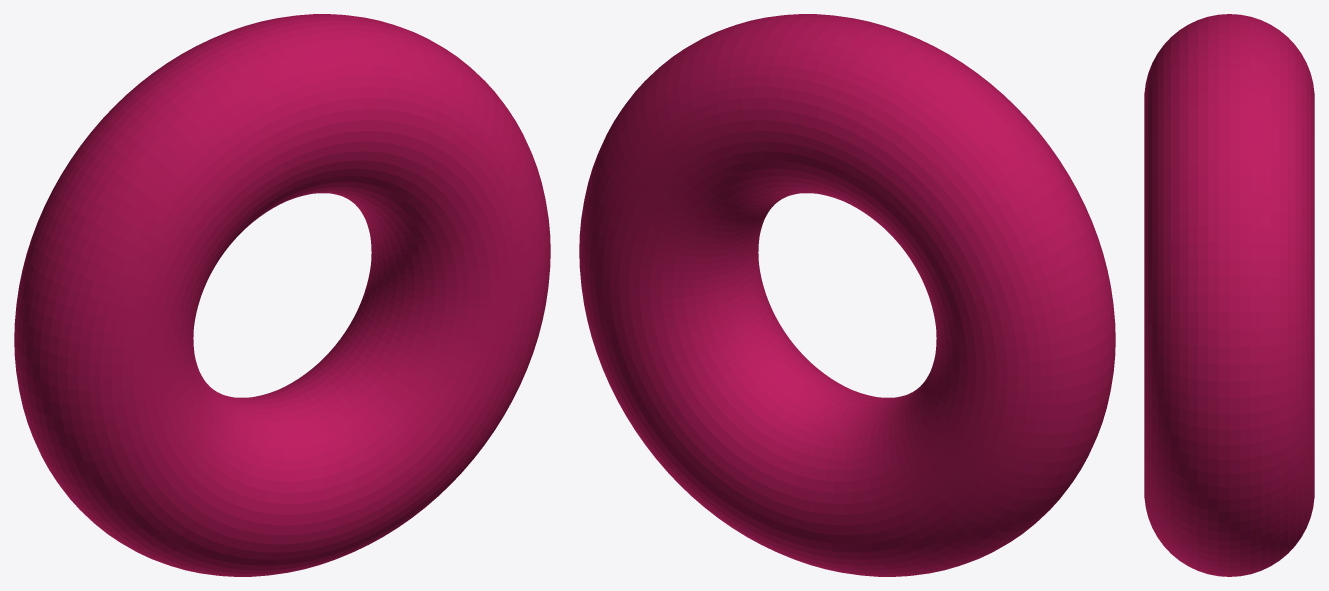
The picture shows the model from 3 angles, left to right: view 1: azimuth 30°, elevation 25°; view 2: azimuth 150°, elevation 25°; view 3: azimuth 270°, elevation 25°; orthographic projection. The views are drawn at different scales.
Parts seen in each view (by area): view 1: world; view 2: world; view 3: world.
Part boxes in pixels (<box>): world: <box>14,14,550,576</box>; world: <box>579,14,1115,576</box>; world: <box>1144,14,1314,576</box>.
Size of the model in its own units: 27.73 by 27.73 by 8.38.
